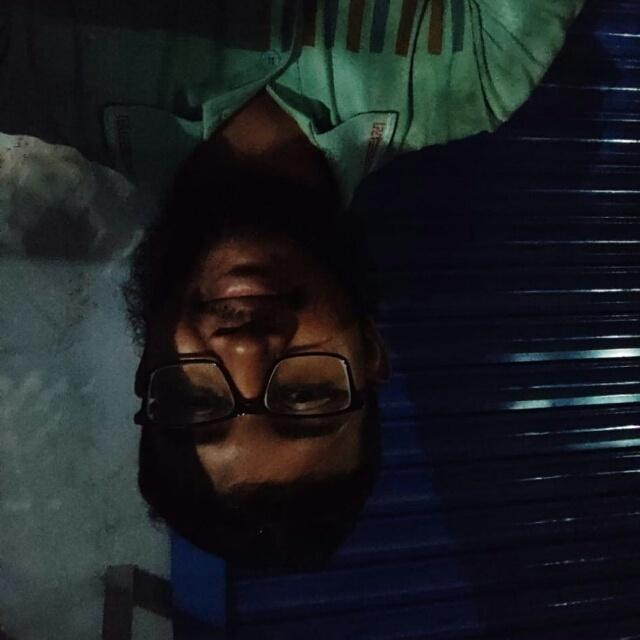Happy: (123, 189, 418, 548)
